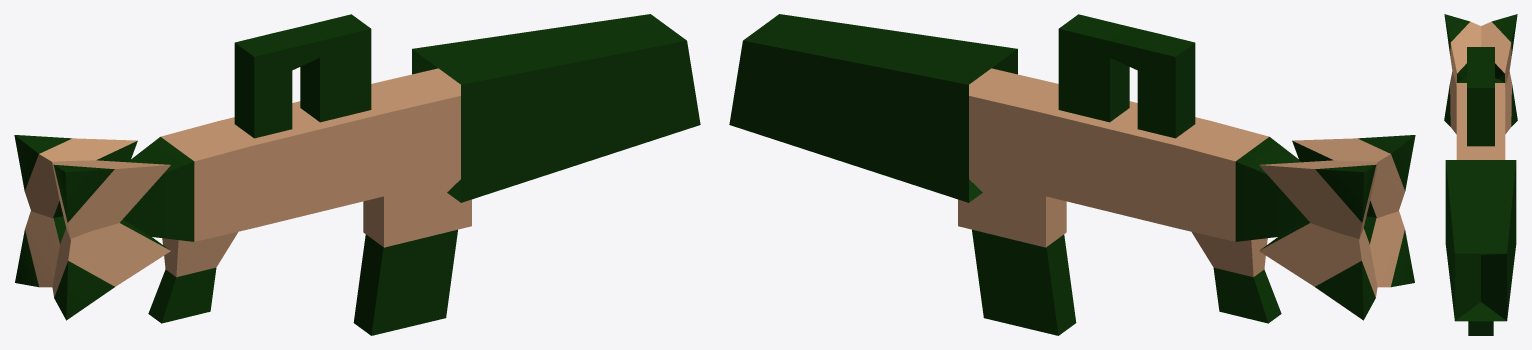
The model's file is RocketLauncher2.fbx.
The picture shows the model from 3 angles, left to right: view 1: azimuth 30°, elevation 25°; view 2: azimuth 150°, elevation 25°; view 3: azimuth 270°, elevation 25°; orthographic projection. The views are drawn at different scales.
Visible parts, largest first — view 1: Cube.067; view 2: Cube.067; view 3: Cube.067.
Part boxes in pixels (x1,y1,x2,y2): Cube.067: (14,14,700,335); Cube.067: (729,14,1415,335); Cube.067: (1444,14,1517,335).
Size of the model in its own units: 26.54 by 12.19 by 3.68.
